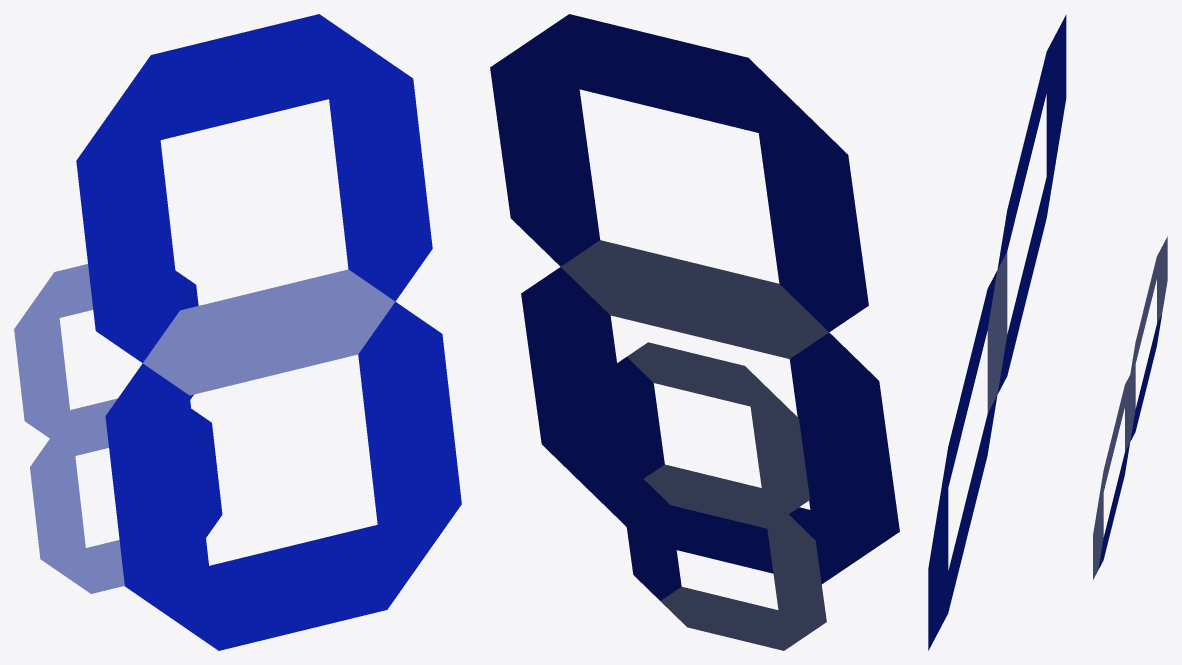
The model's file is FutebolNumerosPlacar.fbx.
3 renders of one model, left to right at view 1: azimuth 30°, elevation 25°; view 2: azimuth 150°, elevation 25°; view 3: azimuth 270°, elevation 25°, orthographic. The views are drawn at different scales.
Parts seen in each view (by area): view 1: 0, 1; view 2: 0, 1; view 3: 0, 1.
Boxes of the visible parts, box(x1,y1,x2,y2) form: 0: box(76, 14, 461, 650); 1: box(14, 264, 222, 593); 0: box(490, 14, 899, 584); 1: box(605, 342, 826, 650); 0: box(928, 15, 1066, 650); 1: box(1093, 236, 1167, 579).
Bounding box in the file's own units: 19.1 × 28.89 × 11.3.
